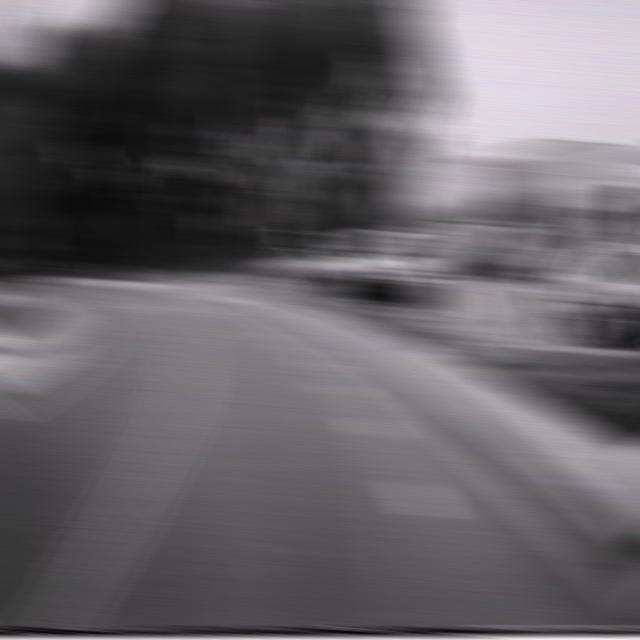stop_sign: (253, 200, 289, 228), (206, 214, 236, 240)
